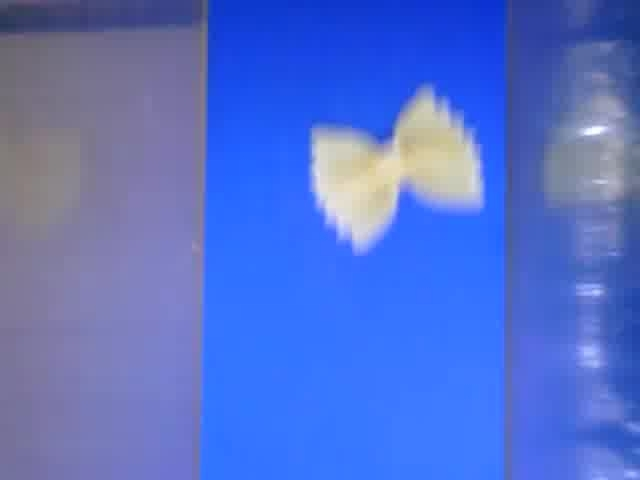farfalle: (311, 86, 487, 255)
